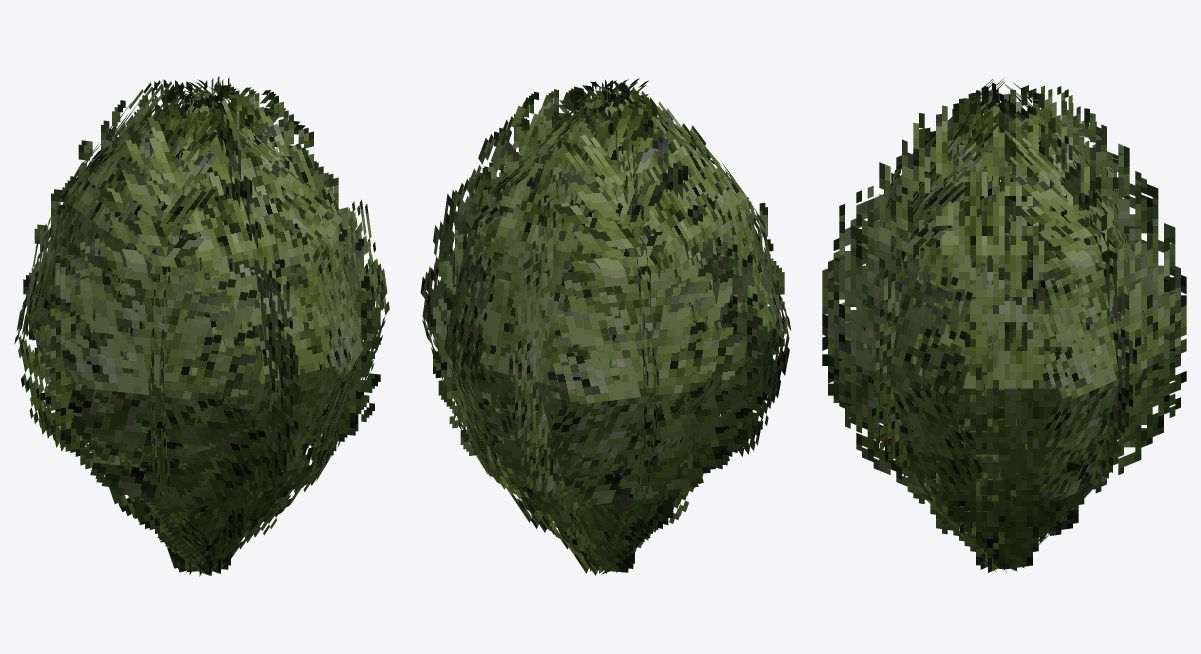
The model's file is bush07_fall.glb.
3 views of the same model, side by side, from view 1: azimuth 30°, elevation 25°; view 2: azimuth 150°, elevation 25°; view 3: azimuth 270°, elevation 25° (orthographic).
Visible parts, largest first — view 1: bush07; view 2: bush07; view 3: bush07.
Boxes of the visible parts, left/top/right/bottom form: bush07: left=14, top=76, right=389, bottom=576; bush07: left=420, top=78, right=791, bottom=575; bush07: left=822, top=78, right=1186, bottom=572.
Size of the model in its own units: 1.05 by 1.5 by 1.05.
Materials: 1 (1 with a texture image).
